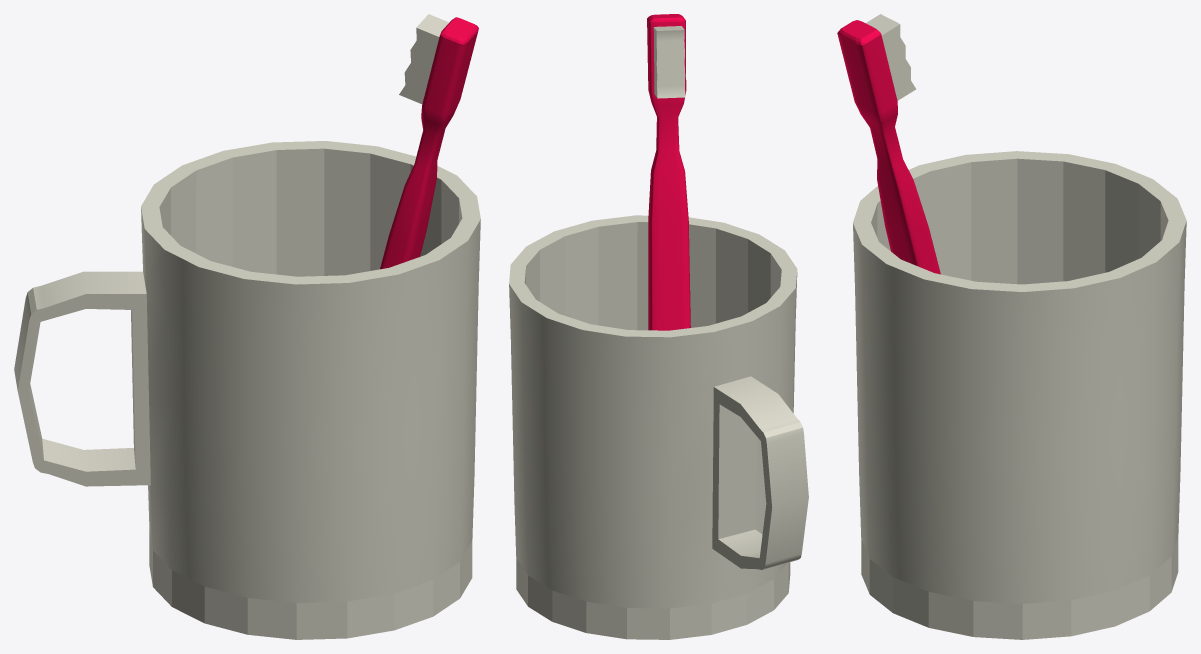
File: ToothBrushGroup1.fbx
3 renders of one model, left to right at view 1: azimuth 30°, elevation 25°; view 2: azimuth 150°, elevation 25°; view 3: azimuth 270°, elevation 25°, orthographic. The views are drawn at different scales.
Visible parts, largest first — view 1: Cup, pCube137, pCube138; view 2: Cup, pCube137, pCube138; view 3: Cup, pCube137, pCube138.
Part boxes in pixels (x1,y1,x2,y2): Cup: (14,141,480,639); pCube137: (380,17,478,269); pCube138: (399,14,449,103); Cup: (509,215,808,639); pCube137: (647,14,690,330); pCube138: (653,26,685,98); Cup: (853,151,1186,639); pCube137: (837,20,940,274); pCube138: (866,14,916,100).
Bounding box in the file's own units: 20.87 × 30.53 × 16.73.
